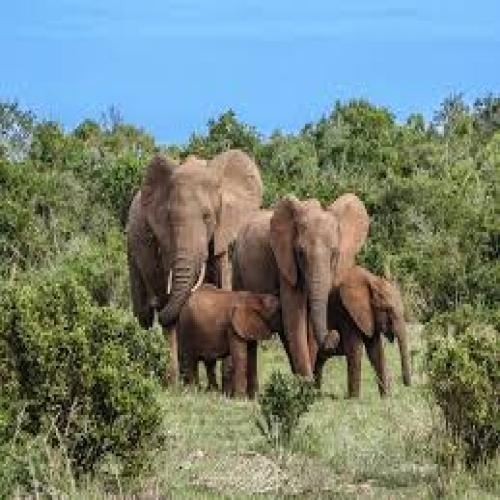asian_elephant-endangered: (248, 186, 368, 379), (122, 149, 254, 303), (178, 285, 284, 403), (332, 274, 412, 404)
